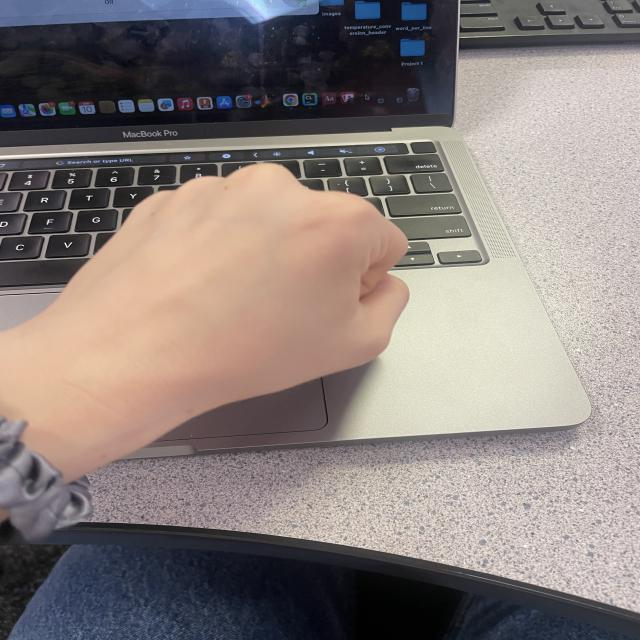keyboard-with-hands: (0, 135, 579, 461)
